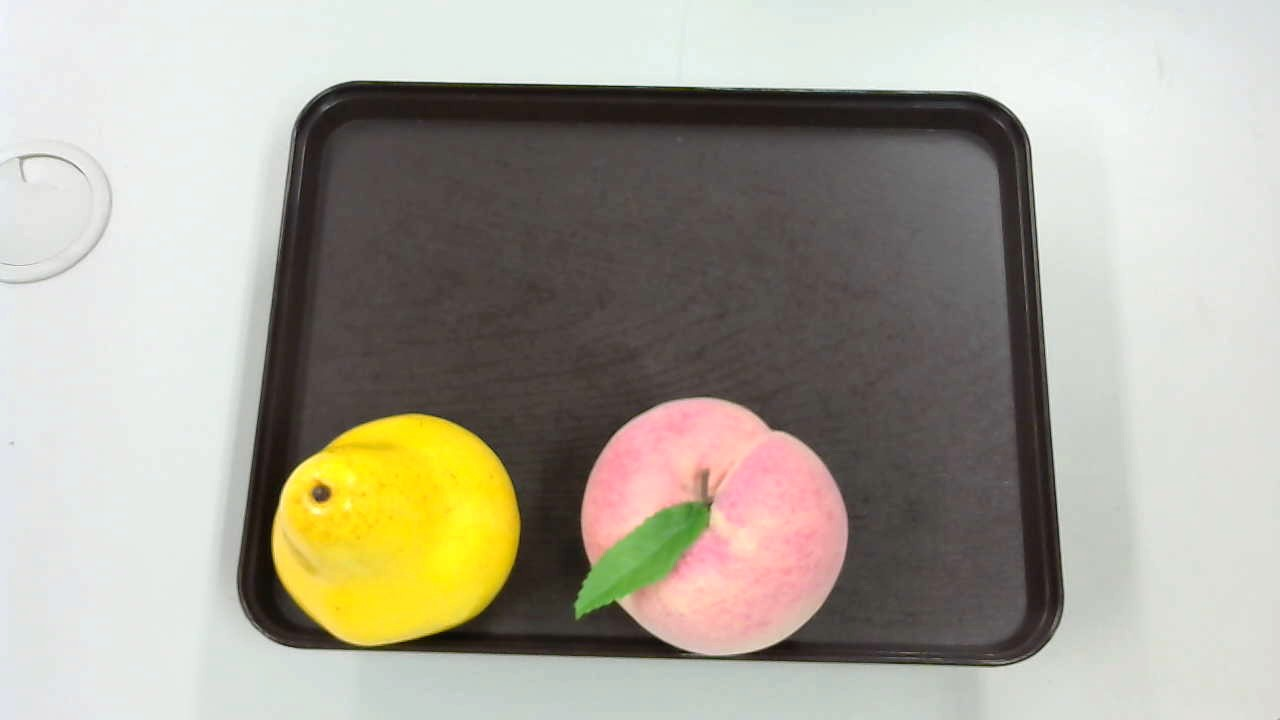peach: (559, 386, 854, 663)
yellow pear: (266, 411, 519, 651)
